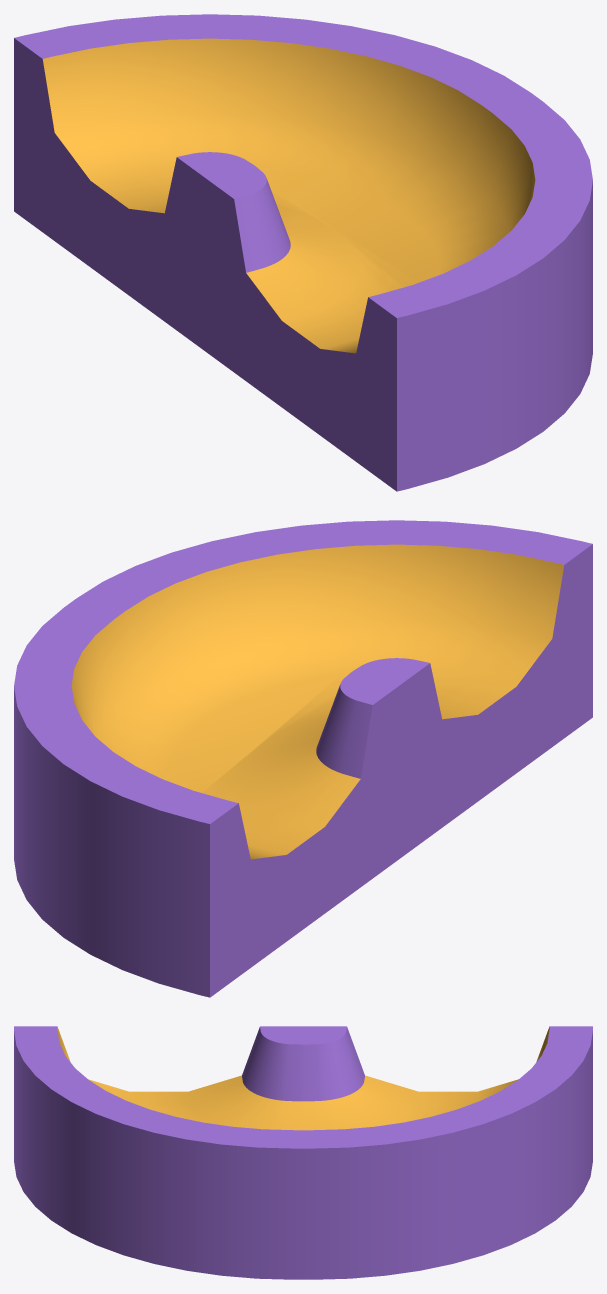
Rendered from bend.glb.
3 views of the same model, one above another, from view 1: azimuth 30°, elevation 25°; view 2: azimuth 150°, elevation 25°; view 3: azimuth 270°, elevation 25° (orthographic). The views are drawn at different scales.
Parts seen in each view (by area): view 1: bend; view 2: bend; view 3: bend.
Part boxes in pixels (x1,y1,x2,y2): bend: [14, 14, 592, 491]; bend: [14, 520, 592, 997]; bend: [14, 1026, 592, 1279].
Size of the model in its own units: 1 by 0.5001 by 2.
Materials: 1 (1 with a texture image).
